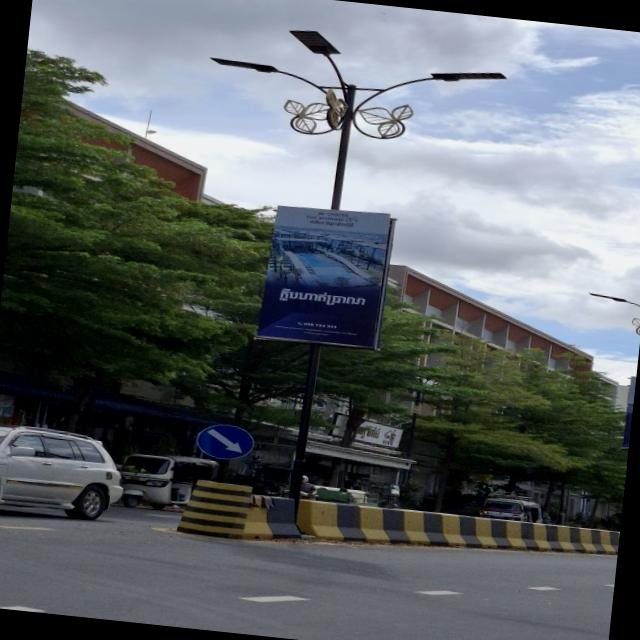Yolov11kh: (269, 280, 379, 314)
